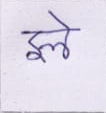o_matra: (59, 14, 72, 58)
